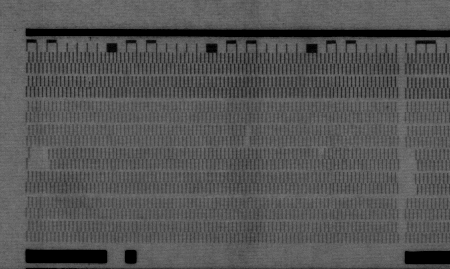Broken hole: (403, 147, 419, 196), (28, 150, 53, 173), (241, 125, 255, 147), (315, 146, 326, 160)
Oblique printing: (83, 76, 95, 91)
